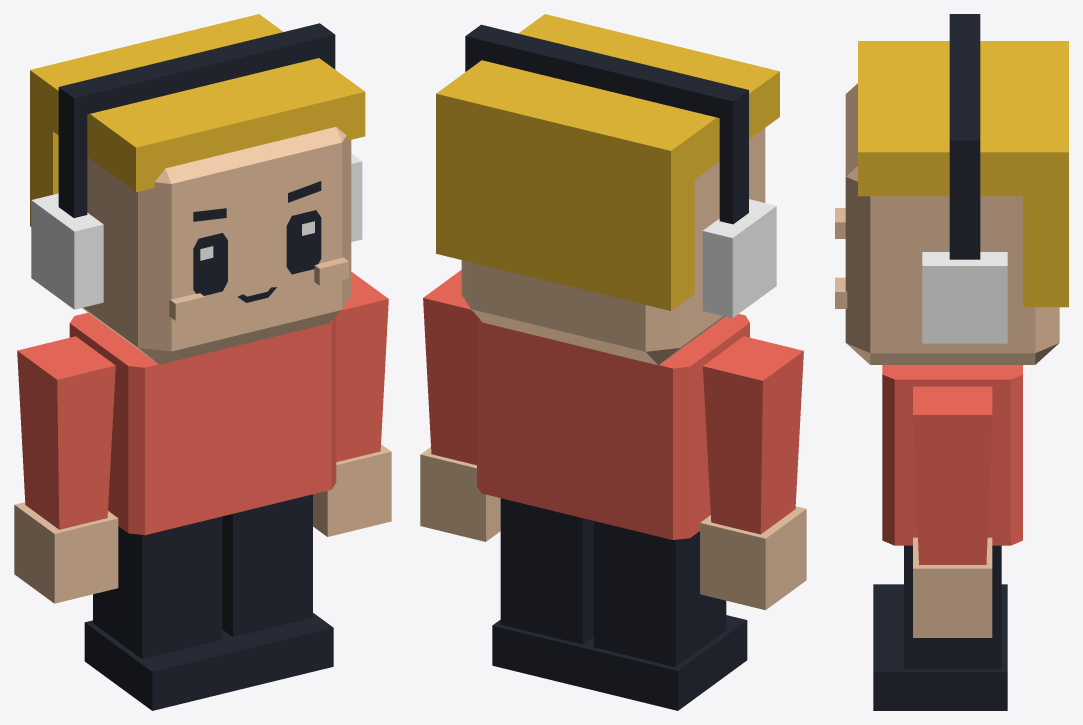
Rendered from townsperson-headphones.glb.
3 renders of one model, left to right at view 1: azimuth 30°, elevation 25°; view 2: azimuth 150°, elevation 25°; view 3: azimuth 270°, elevation 25°, orthographic. The views are drawn at different scales.
Parts seen in each view (by area): view 1: head, body, hair, headphones, arm_R, leg_R, leg_L, arm_L, shoe_R, hand_R, face, hand_L (+1 smaller); view 2: hair, body, headphones, arm_R, head, leg_R, leg_L, arm_L, hand_R, shoe_R, hand_L, shoe_L; view 3: hair, head, headphones, body, arm_L, shoe_L, hand_L, leg_L, shoe_R, face.
Part boxes in pixels (bbox=[...]): head: bbox=[82, 127, 351, 364]; body: bbox=[69, 312, 336, 535]; hair: bbox=[30, 14, 365, 226]; headphones: bbox=[31, 23, 362, 309]; arm_R: bbox=[17, 336, 115, 529]; leg_R: bbox=[93, 516, 222, 659]; leg_L: bbox=[222, 494, 312, 636]; arm_L: bbox=[336, 272, 388, 461]; shoe_R: bbox=[84, 620, 242, 710]; hand_R: bbox=[14, 502, 118, 603]; face: bbox=[169, 181, 348, 320]; hand_L: bbox=[313, 444, 391, 536]; hair: bbox=[436, 14, 779, 310]; body: bbox=[477, 314, 749, 539]; headphones: bbox=[465, 24, 776, 317]; arm_R: bbox=[703, 336, 803, 534]; head: bbox=[461, 128, 765, 365]; leg_R: bbox=[593, 521, 726, 667]; leg_L: bbox=[500, 498, 593, 644]; arm_L: bbox=[423, 270, 476, 465]; hand_R: bbox=[700, 506, 806, 610]; shoe_R: bbox=[585, 615, 747, 710]; hand_L: bbox=[420, 447, 500, 541]; shoe_L: bbox=[492, 619, 593, 688]; hair: bbox=[858, 41, 1068, 307]; head: bbox=[845, 83, 1059, 364]; headphones: bbox=[922, 14, 1007, 343]; body: bbox=[882, 365, 1022, 545]; arm_L: bbox=[913, 386, 992, 564]; shoe_L: bbox=[873, 628, 1007, 710]; hand_L: bbox=[913, 537, 992, 637]; leg_L: bbox=[904, 545, 1001, 669]; shoe_R: bbox=[873, 584, 1007, 628]; face: bbox=[835, 208, 847, 308].
Size of the model in its own units: 1.26 by 2.13 by 0.765.
